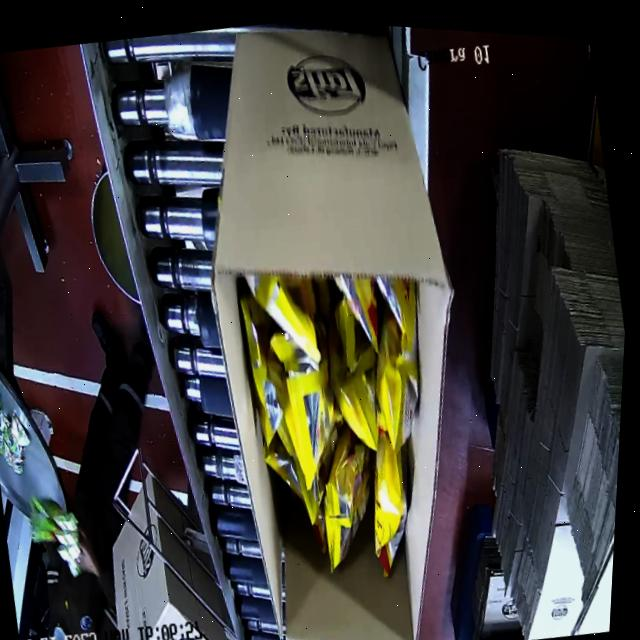SALTED: (211, 241, 451, 606)
